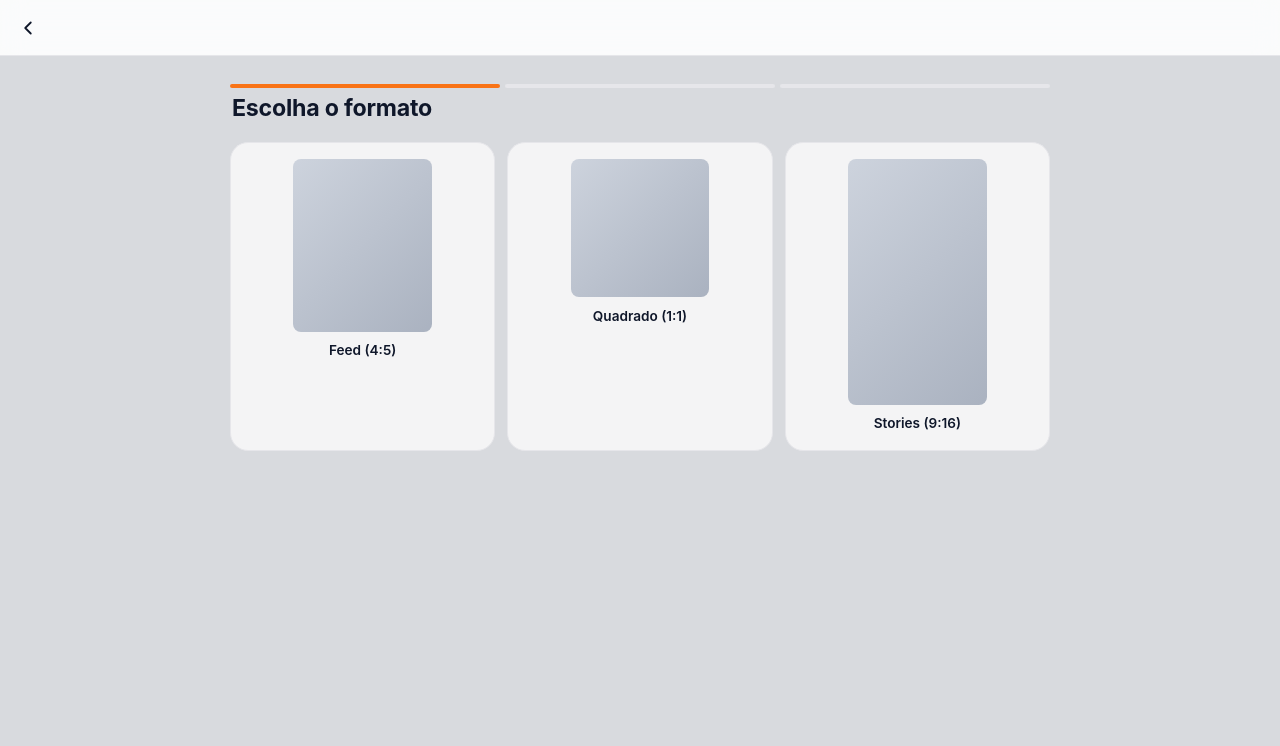
Test: NewProject — fluxo › navega de formato → template → fotos
Check: the heading "Escolha o formato" is shown, box left=232, top=94, right=432, bottom=122
Click the button "Feed (4:5)" at (363, 296), box left=230, top=142, right=495, bottom=451
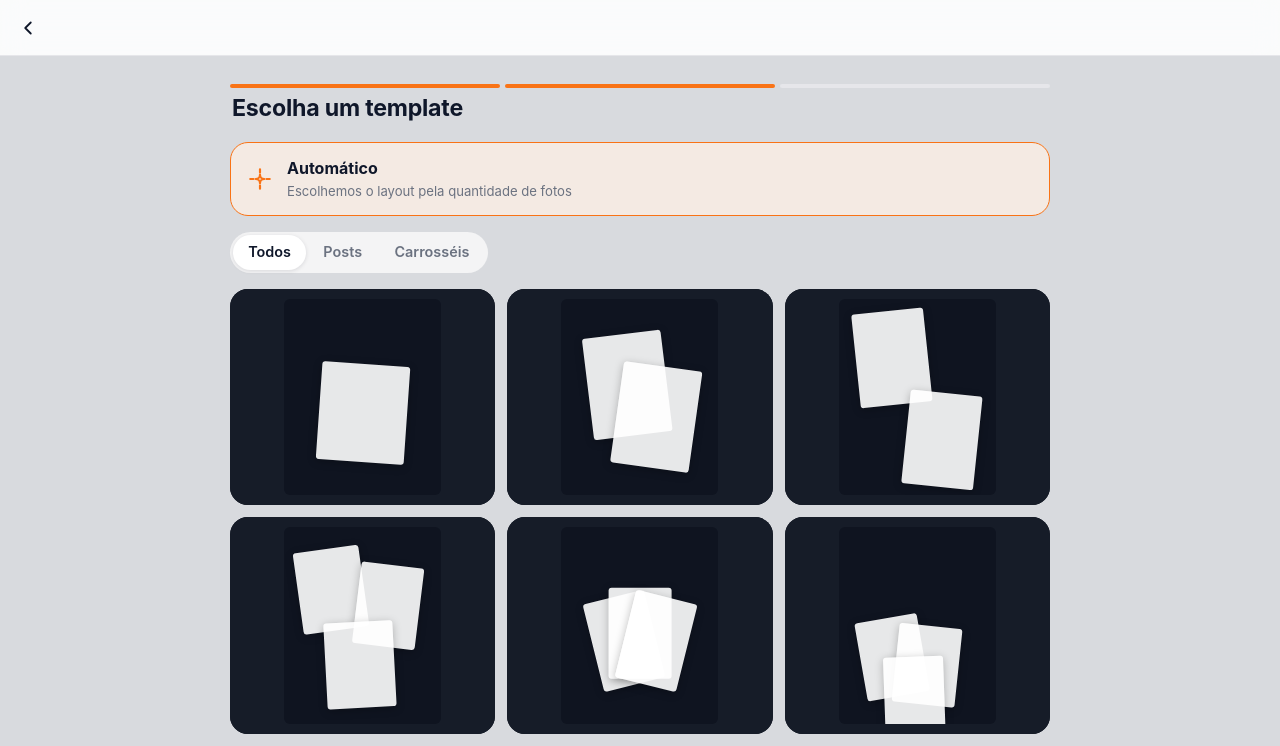
Check: the heading "Escolha um template" is shown, box left=232, top=94, right=463, bottom=122
Click the button named "post-solo" at (363, 397), box left=230, top=289, right=495, bottom=505
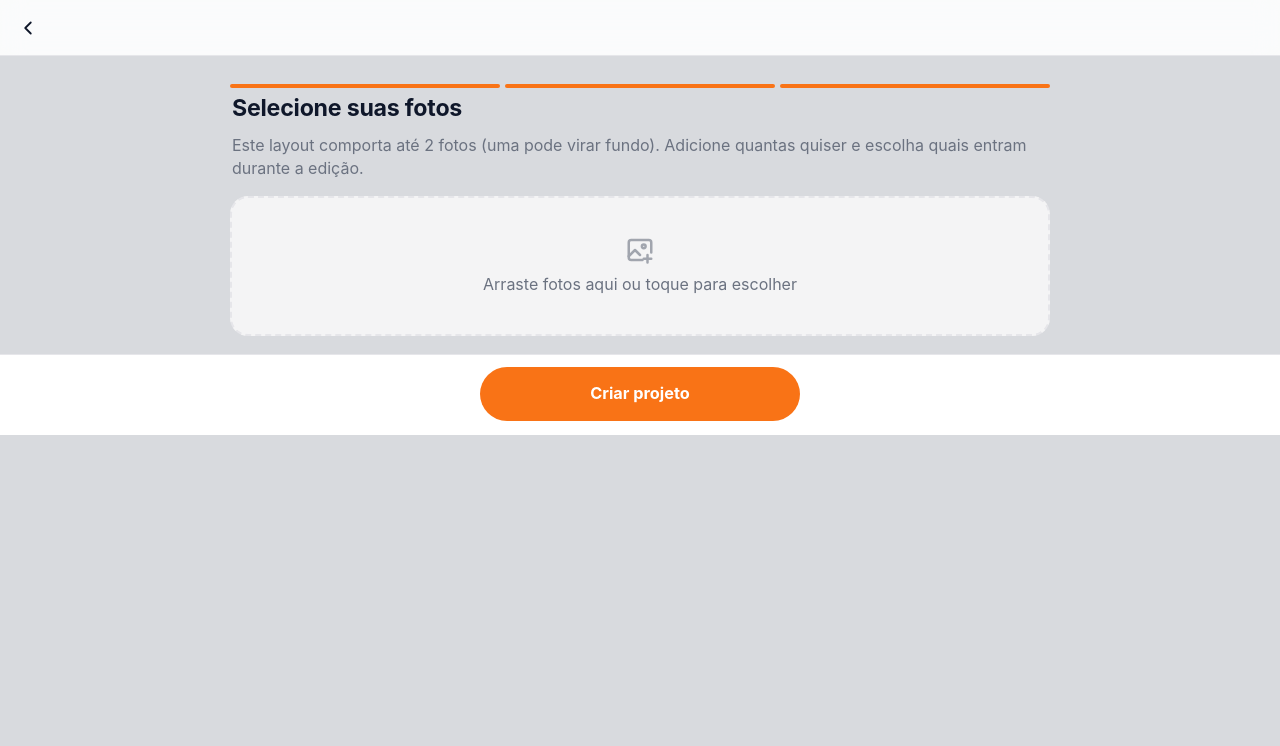
Check: the heading "Selecione suas fotos" is shown, box left=232, top=94, right=462, bottom=122
